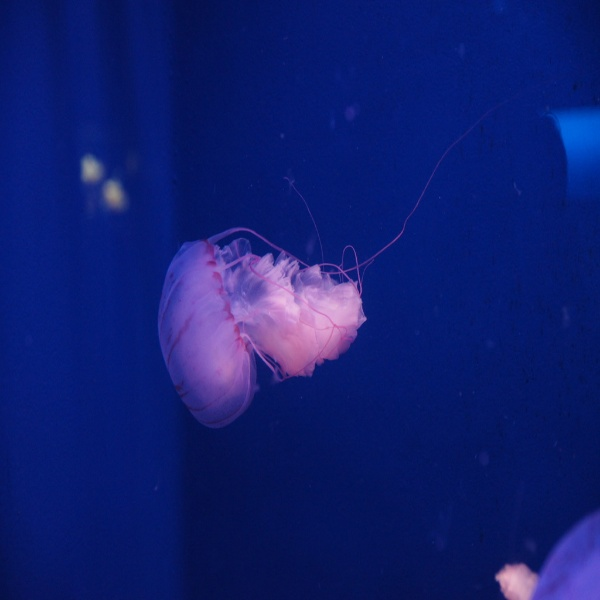Jellyfish: (145, 114, 558, 491)
